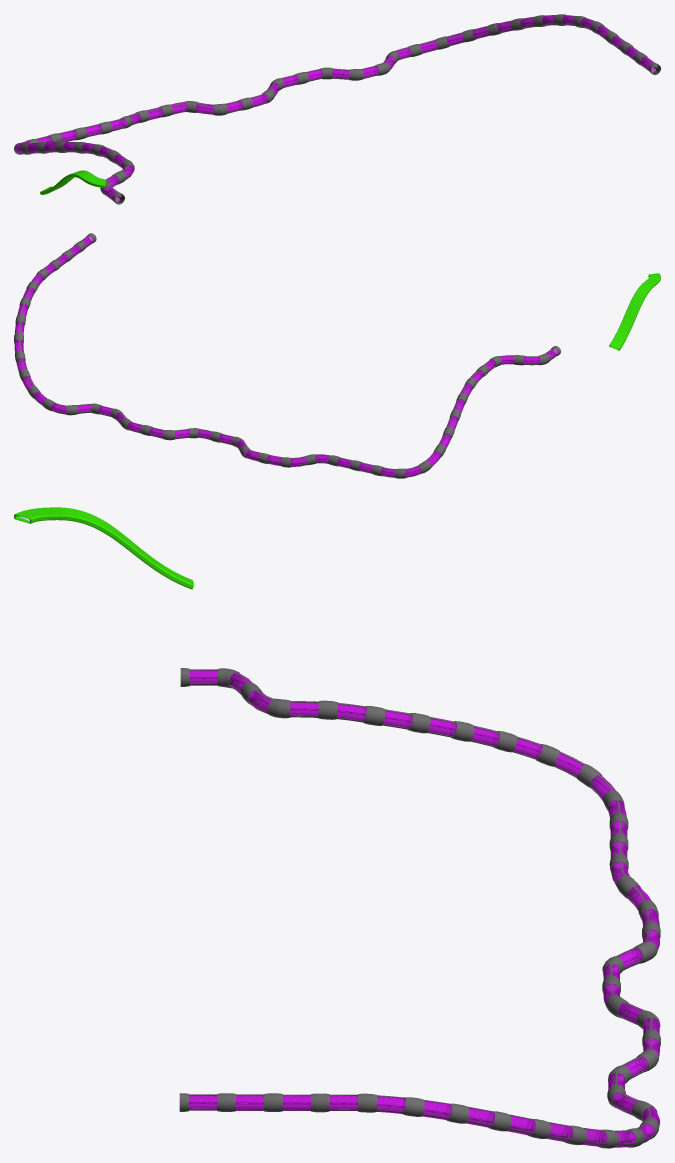
The model's file is UnderWaterTube.fbx.
3 renders of one model, top to bottom at view 1: azimuth 30°, elevation 25°; view 2: azimuth 150°, elevation 25°; view 3: azimuth 270°, elevation 25°, orthographic. The views are drawn at different scales.
Parts seen in each view (by area): view 1: TubeStructure_final, TubeStructure_modifiers, Tunnel_01; view 2: TubeStructure_final, TubeStructure_modifiers, Tunnel_01; view 3: TubeStructure_final, TubeStructure_modifiers, Tunnel_01.
Boxes of the visible parts, bbox=[...] form: TubeStructure_final: bbox=[14, 14, 660, 204]; TubeStructure_modifiers: bbox=[15, 16, 656, 200]; Tunnel_01: bbox=[40, 170, 106, 194]; TubeStructure_final: bbox=[14, 233, 560, 478]; TubeStructure_modifiers: bbox=[15, 236, 557, 476]; Tunnel_01: bbox=[609, 273, 660, 350]; TubeStructure_final: bbox=[179, 668, 660, 1148]; TubeStructure_modifiers: bbox=[189, 670, 659, 1147]; Tunnel_01: bbox=[14, 507, 194, 589].
Size of the model in its own units: 246298 by 53097 by 138110.
